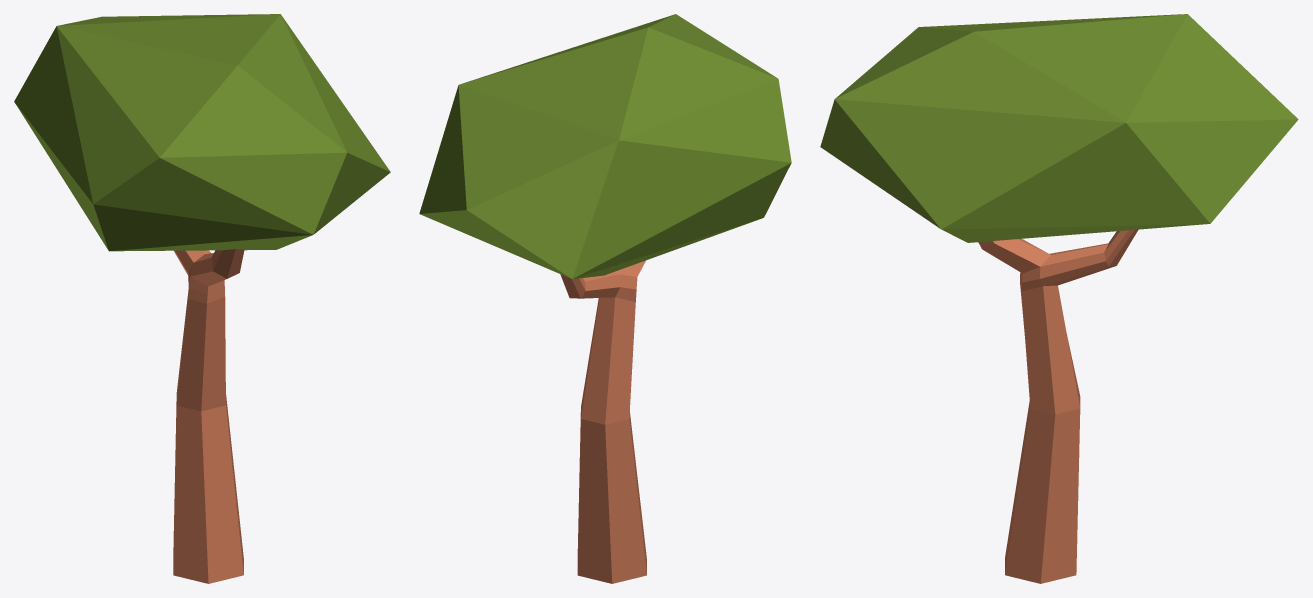
The model's file is Tree_07_autumn_mat.fbx.
The picture shows the model from 3 angles, left to right: view 1: azimuth 30°, elevation 25°; view 2: azimuth 150°, elevation 25°; view 3: azimuth 270°, elevation 25°; orthographic projection. The views are drawn at different scales.
Parts seen in each view (by area): view 1: Tree_07_autumn_mat; view 2: Tree_07_autumn_mat; view 3: Tree_07_autumn_mat.
Boxes of the visible parts, x1,y1,x2,y2 form: Tree_07_autumn_mat: [14, 14, 390, 583]; Tree_07_autumn_mat: [419, 14, 791, 583]; Tree_07_autumn_mat: [820, 14, 1298, 583].
Bounding box in the file's own units: 5.35 × 9.53 × 7.75.
